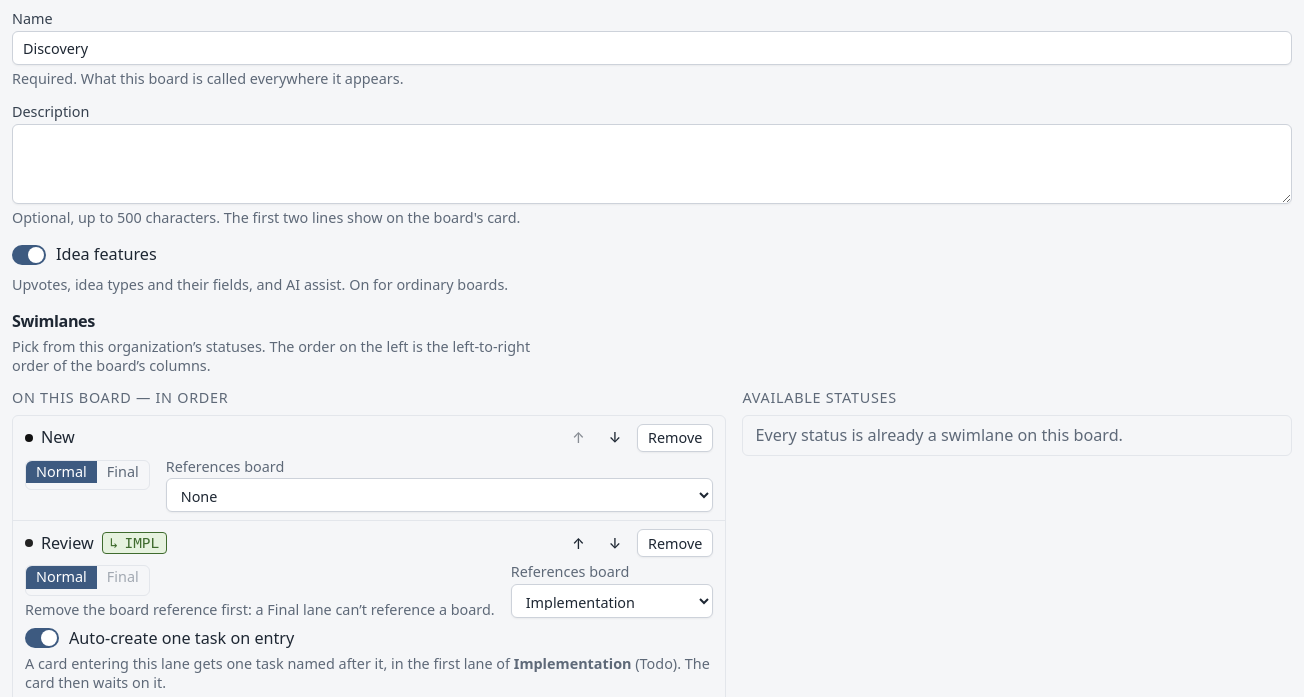
Test: the auto-create switch › turns off, with a note, when the reference is removed while it was on
The image size is (1304, 697).
Select "None" in the dropdown named "References board for Review" at (612, 601), box [511,584,713,618]
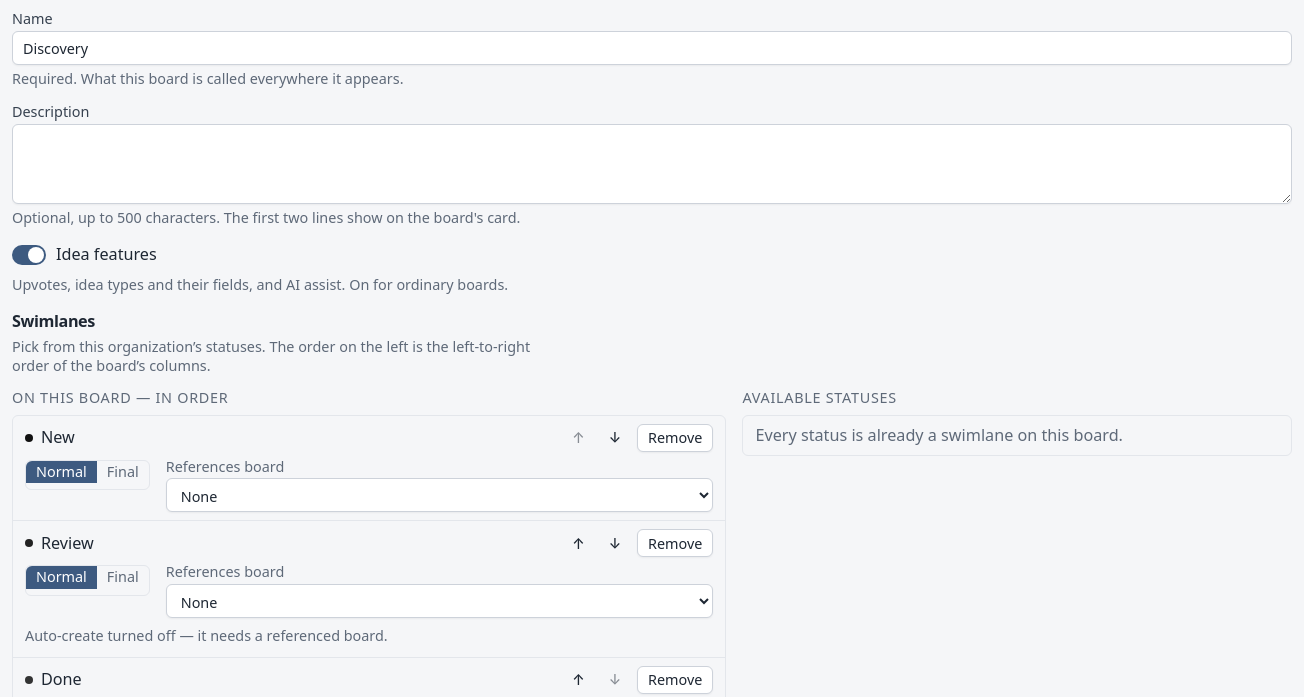
Expected: the switch labelled "Auto-create one task on entry" is gone
Expected: the message reads "Auto-create turned off — it needs a referenced board.", [25,626,388,645]
